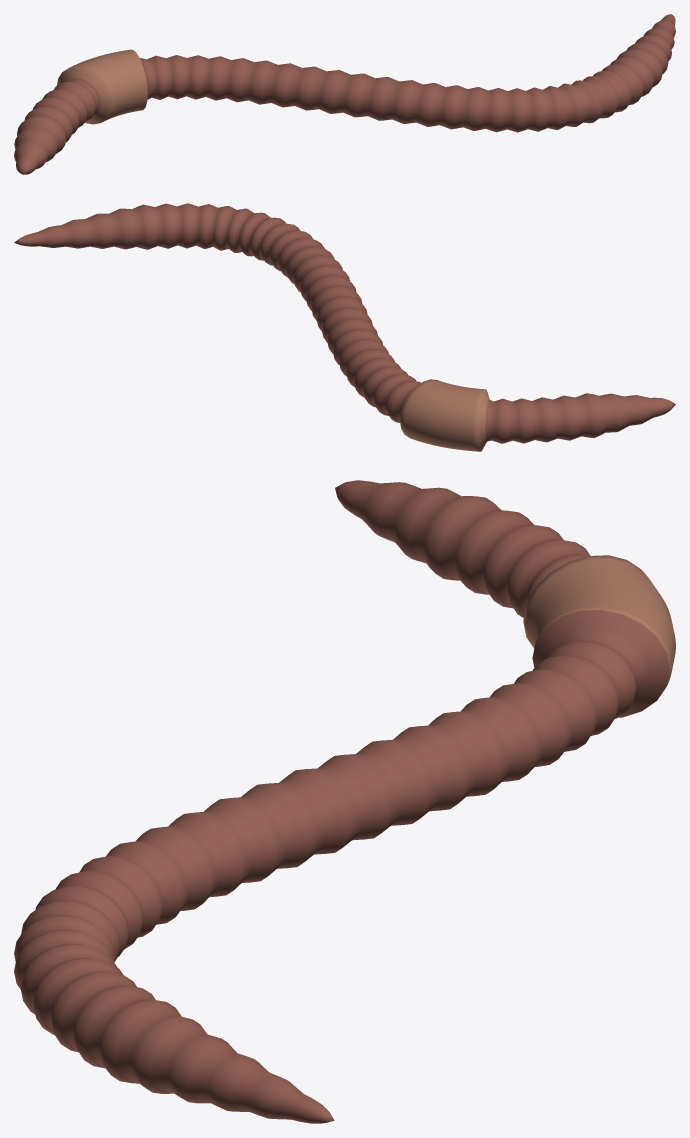
Rendered from NEW_RECOVERY_084_LOD0.glb.
3 renders of one model, top to bottom at view 1: azimuth 30°, elevation 25°; view 2: azimuth 150°, elevation 25°; view 3: azimuth 270°, elevation 25°, orthographic. The views are drawn at different scales.
Parts seen in each view (by area): view 1: earthworm; view 2: earthworm; view 3: earthworm.
Boxes of the visible parts, x1,y1,x2,y2 form: earthworm: [14, 14, 675, 174]; earthworm: [14, 203, 675, 451]; earthworm: [14, 480, 675, 1123].
Size of the model in its own units: 4.7 by 0.3754 by 2.08.
